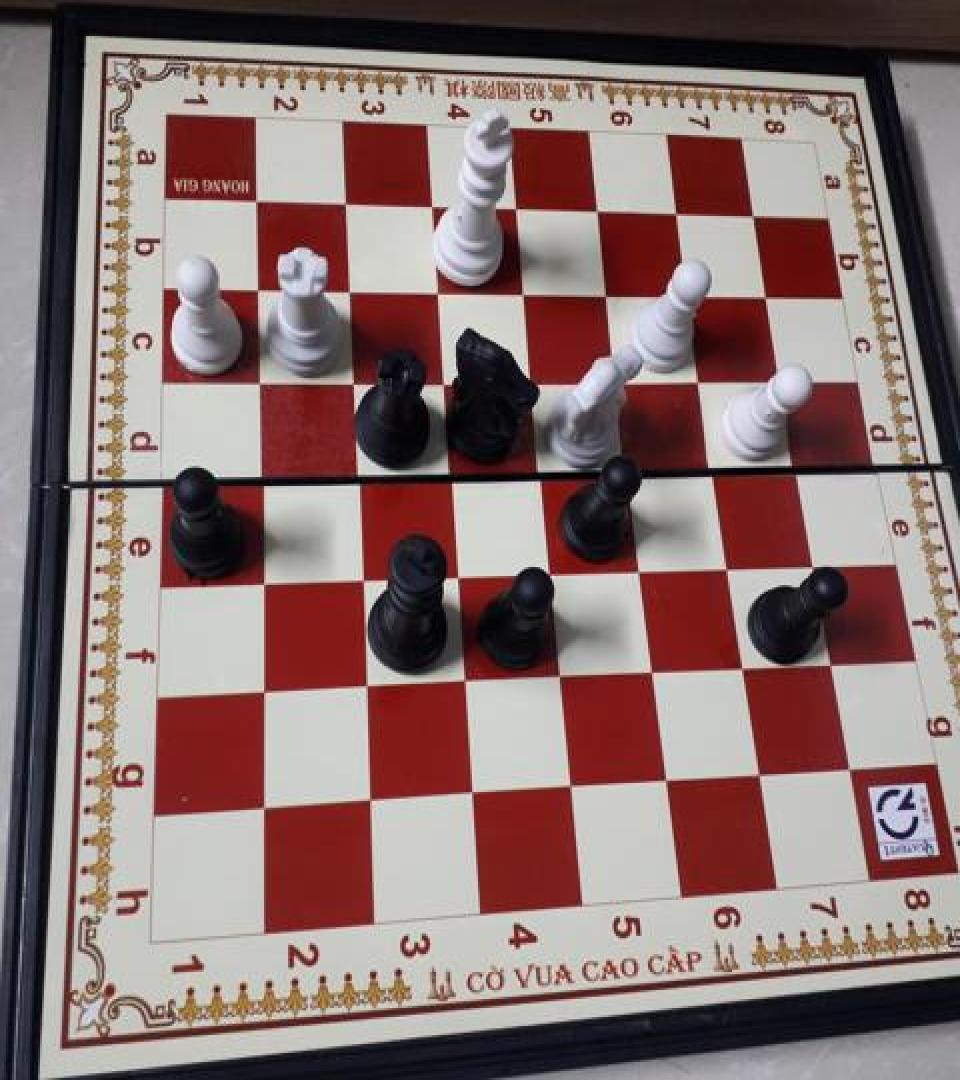xcorner: (241, 182, 275, 221), (591, 273, 625, 312), (508, 272, 542, 311), (736, 196, 770, 234), (659, 195, 693, 233), (581, 192, 615, 230), (500, 190, 534, 228), (416, 188, 450, 226), (330, 184, 364, 222), (750, 276, 784, 314), (672, 274, 706, 312), (422, 271, 456, 309), (333, 270, 367, 308), (242, 269, 276, 307), (765, 359, 799, 397), (684, 359, 718, 397), (601, 359, 635, 397), (516, 360, 550, 398), (428, 360, 462, 398), (337, 360, 371, 398), (242, 360, 276, 398), (780, 447, 814, 485), (698, 449, 732, 487), (613, 450, 647, 488), (525, 452, 559, 490), (434, 454, 468, 492), (340, 456, 374, 494), (243, 458, 277, 496), (797, 540, 831, 578), (712, 544, 746, 582), (625, 547, 659, 585), (534, 550, 568, 588), (441, 554, 475, 592), (344, 558, 378, 596), (244, 562, 278, 600), (814, 639, 848, 677), (727, 645, 761, 683), (638, 649, 672, 687), (545, 655, 579, 693), (448, 660, 482, 698), (349, 666, 383, 704), (245, 672, 279, 710), (833, 744, 867, 782), (743, 752, 777, 790), (651, 758, 685, 796), (555, 766, 589, 804), (456, 774, 490, 812), (353, 782, 387, 820), (246, 790, 280, 828)
